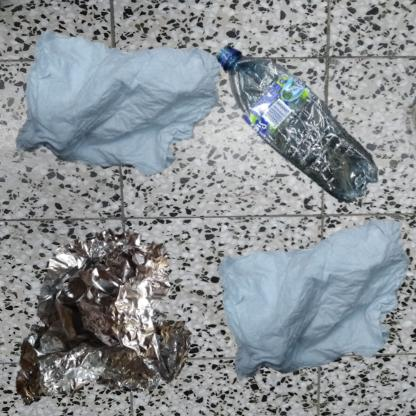aluminio: (10, 213, 215, 416)
botella: (213, 10, 416, 275)
papel: (10, 10, 246, 206), (213, 213, 416, 388)
